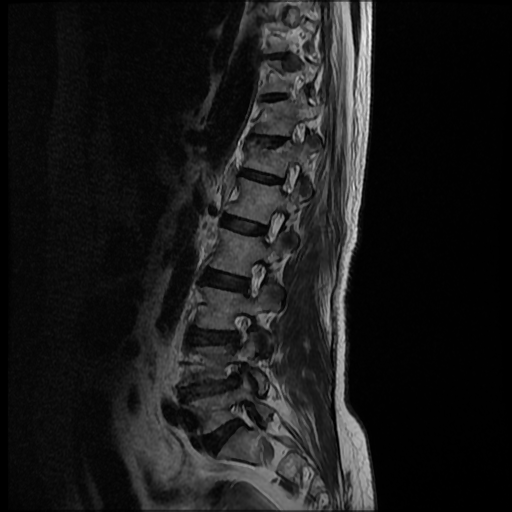LFS0: (234, 255, 273, 302), (220, 304, 257, 353), (252, 206, 294, 248)
LFS3: (217, 358, 251, 399)
